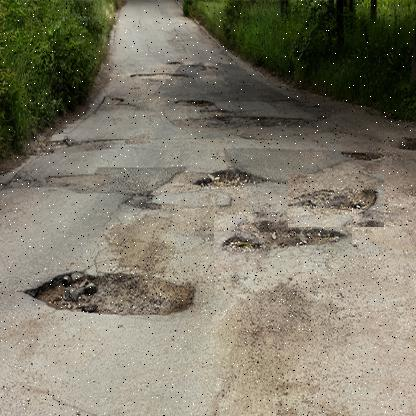pothole: (19, 251, 204, 343), (213, 212, 352, 273), (287, 174, 384, 228), (190, 155, 265, 203)
